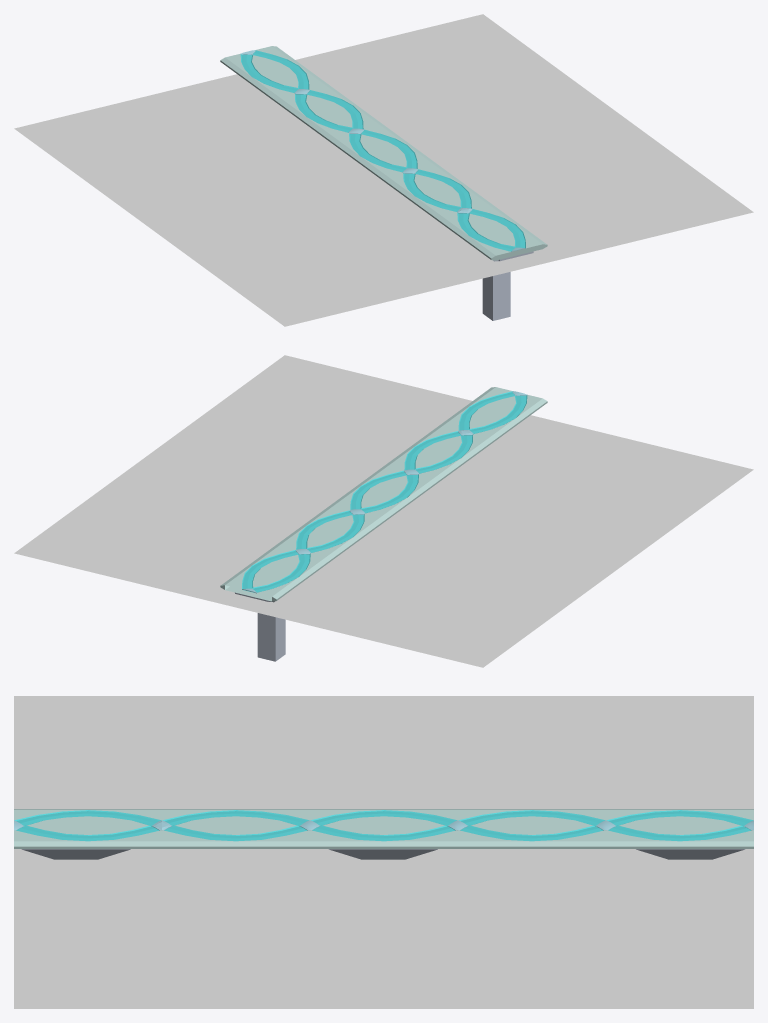
File: Water plan map.fbx
3 views of the same model, one above another, from view 1: azimuth 30°, elevation 25°; view 2: azimuth 150°, elevation 25°; view 3: azimuth 270°, elevation 25° (orthographic). The views are drawn at different scales.
Visible parts, largest first — view 1: Plane001, Object006; view 2: Plane001, Object006; view 3: Plane001, Object006.
Part boxes in pixels (x1,y1,x2,y2): Plane001: [14, 14, 753, 326]; Object006: [220, 46, 547, 320]; Plane001: [14, 355, 753, 667]; Object006: [220, 387, 547, 661]; Plane001: [14, 696, 753, 1008]; Object006: [14, 809, 753, 859].
Size of the model in its own units: 5000 by 839 by 5000.
